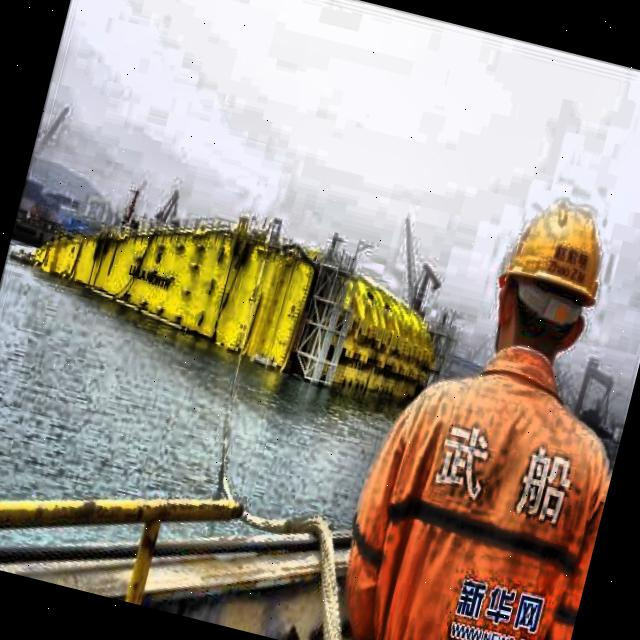helmet: (466, 162, 639, 394)
